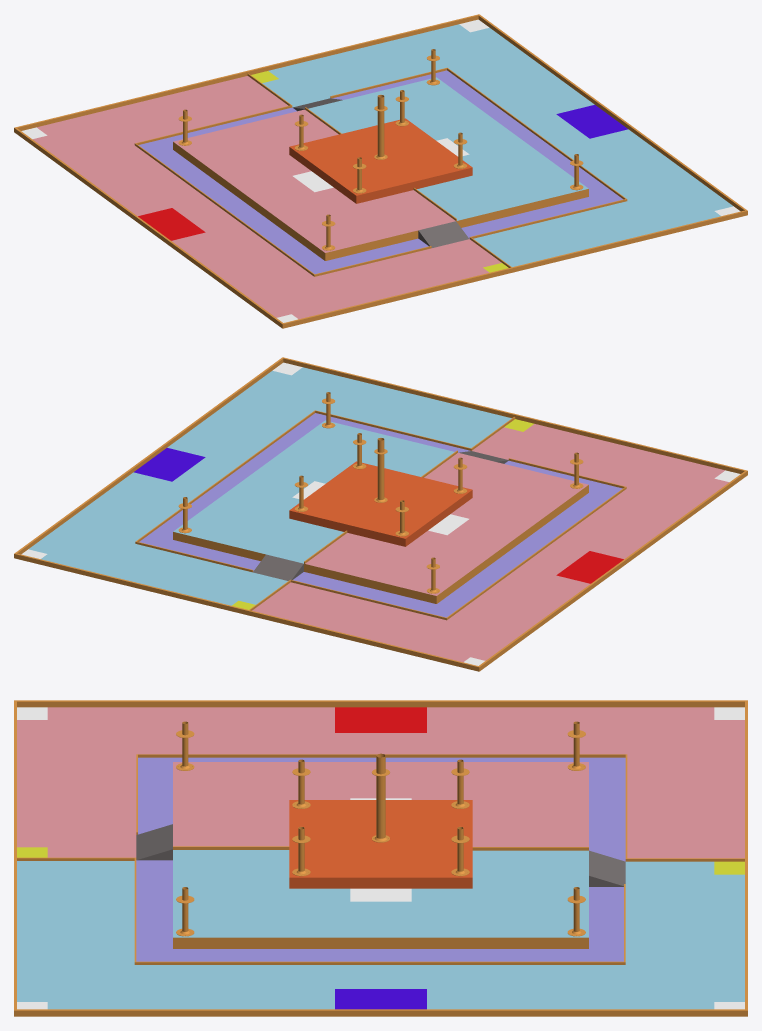
3 views of the same model, one above another, from view 1: azimuth 30°, elevation 25°; view 2: azimuth 150°, elevation 25°; view 3: azimuth 270°, elevation 25° (orthographic). The views are drawn at different scales.
Parts seen in each view (by area): view 1: Rbc; view 2: Rbc; view 3: Rbc.
Part boxes in pixels (x1,y1,x2,y2): Rbc: (14, 14, 747, 328); Rbc: (14, 357, 747, 671); Rbc: (14, 700, 747, 1016).
Bounding box in the file's own units: 12 × 12 × 1.91.
